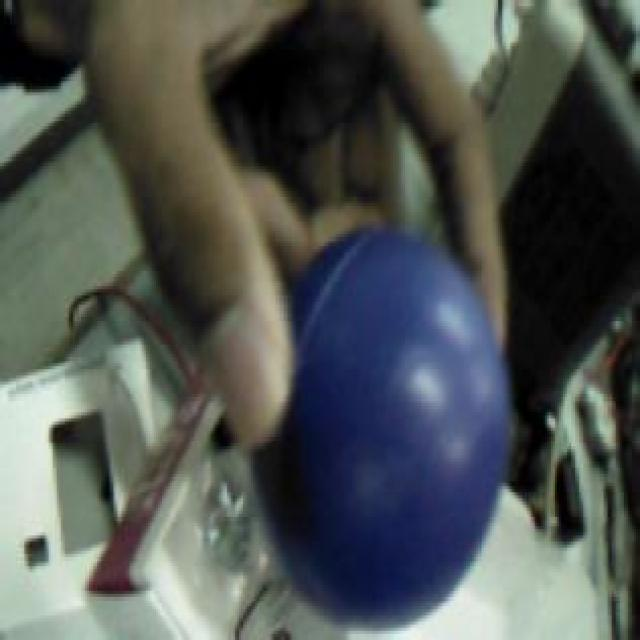BallPurple: (246, 222, 509, 628)
